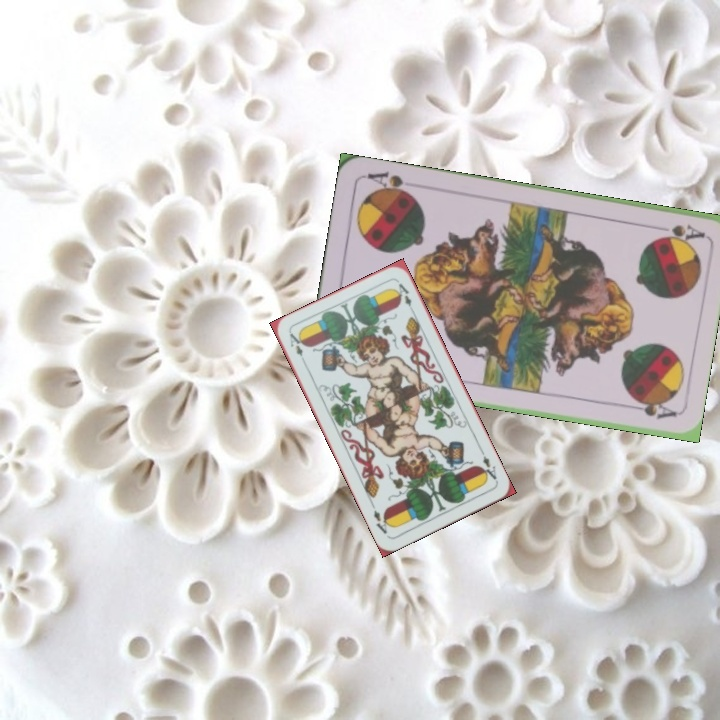EA: (285, 329, 309, 367), (476, 446, 499, 483)
SA: (654, 220, 707, 244)
